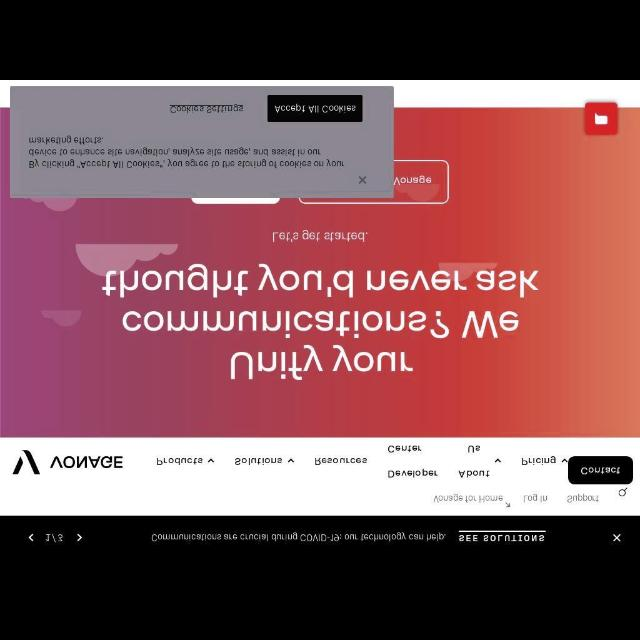backgroundimage: (2, 107, 640, 437)
button: (584, 102, 618, 134)
icon: (594, 113, 608, 125), (357, 174, 368, 186), (618, 488, 628, 497), (612, 534, 622, 542), (560, 457, 568, 463), (494, 458, 502, 464), (28, 534, 34, 542), (76, 534, 82, 542), (287, 458, 295, 462), (207, 458, 215, 462), (506, 502, 510, 508)
image: (11, 448, 124, 476)
panel: (9, 86, 394, 196), (0, 515, 638, 559)
spinner: (156, 458, 216, 468), (232, 458, 296, 467), (522, 454, 568, 466)
text: (103, 261, 542, 381), (27, 134, 345, 170), (150, 531, 446, 543), (270, 228, 368, 244), (168, 103, 244, 113), (274, 105, 356, 114), (433, 493, 503, 503), (458, 535, 544, 543), (387, 468, 438, 480), (314, 456, 368, 466), (394, 174, 432, 186), (232, 458, 282, 467), (156, 458, 202, 467), (580, 466, 620, 476), (522, 455, 556, 465), (566, 493, 600, 502), (458, 469, 490, 478), (386, 445, 422, 453), (524, 492, 548, 503), (44, 534, 64, 544), (468, 446, 480, 452)
textbutton: (268, 94, 362, 122), (568, 456, 634, 484)
toolbar: (1, 438, 639, 516)
